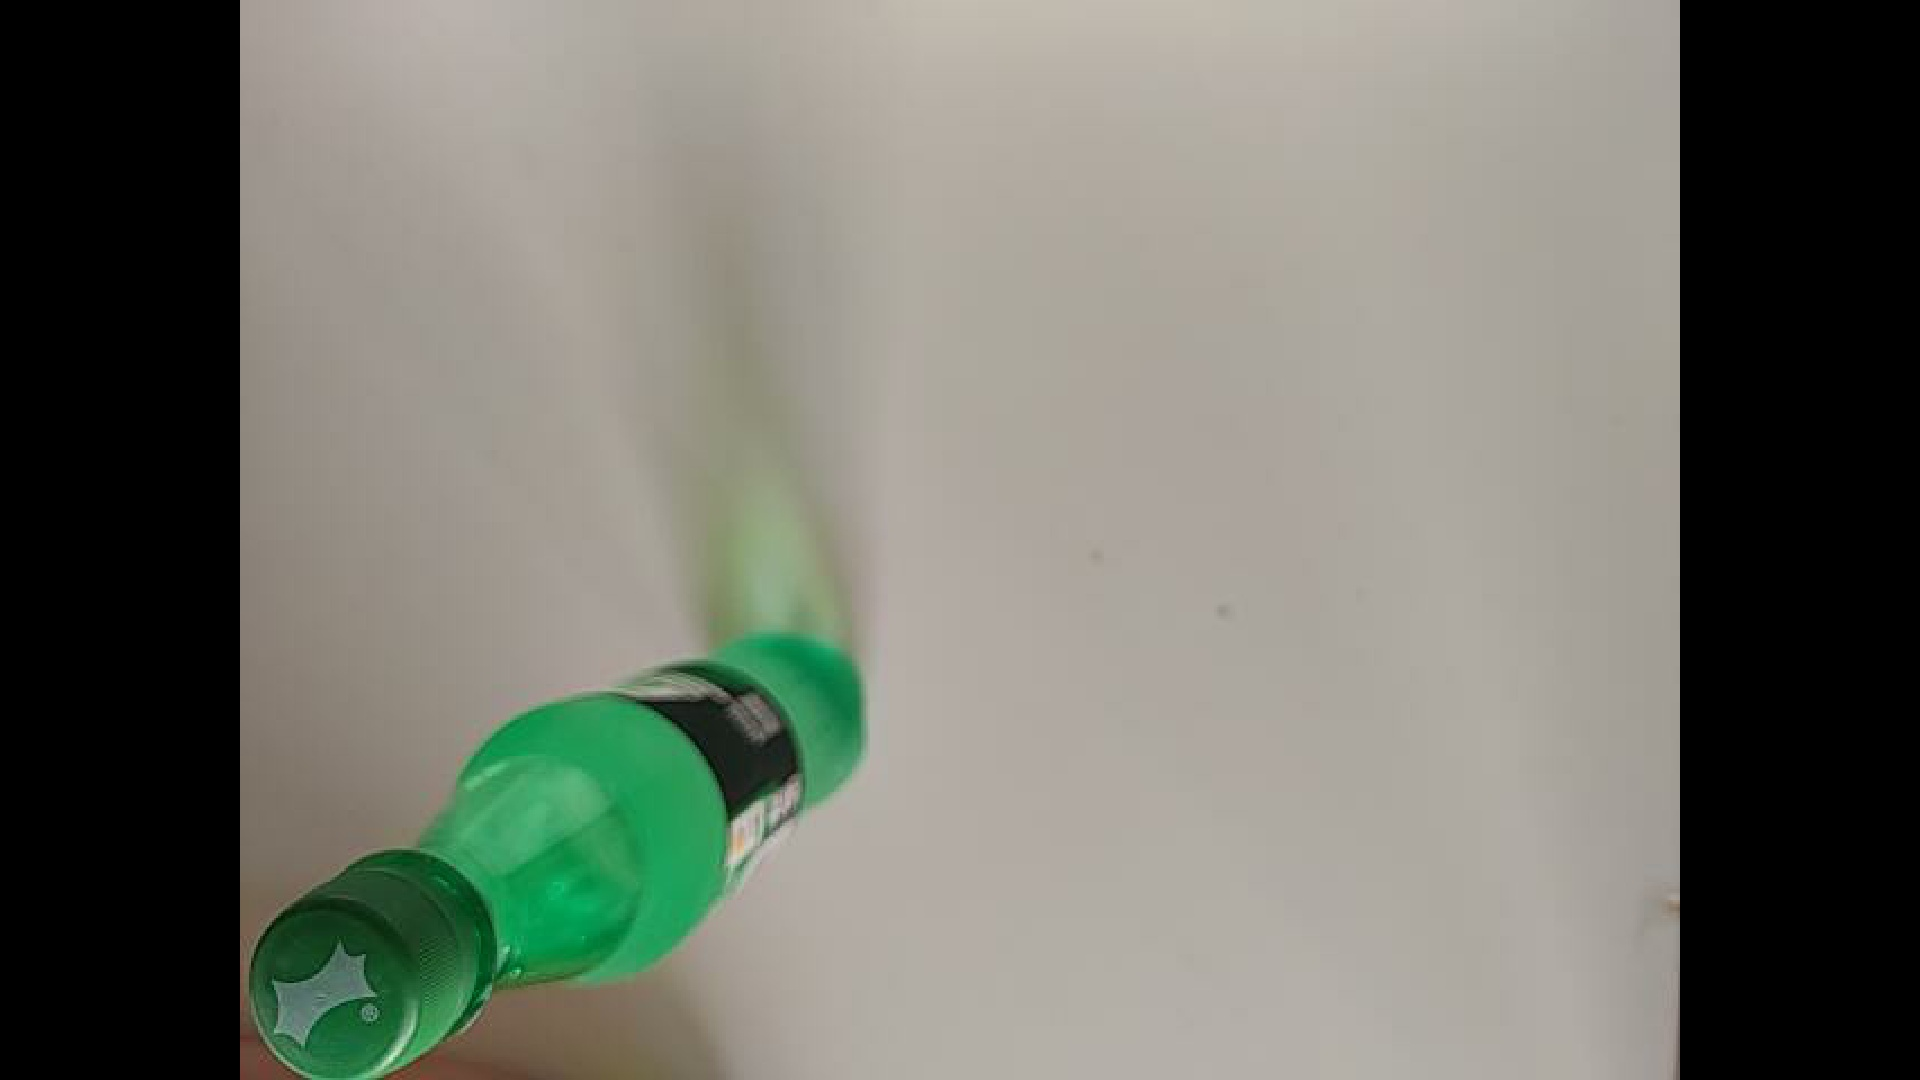sprite: (246, 630, 868, 1077)
